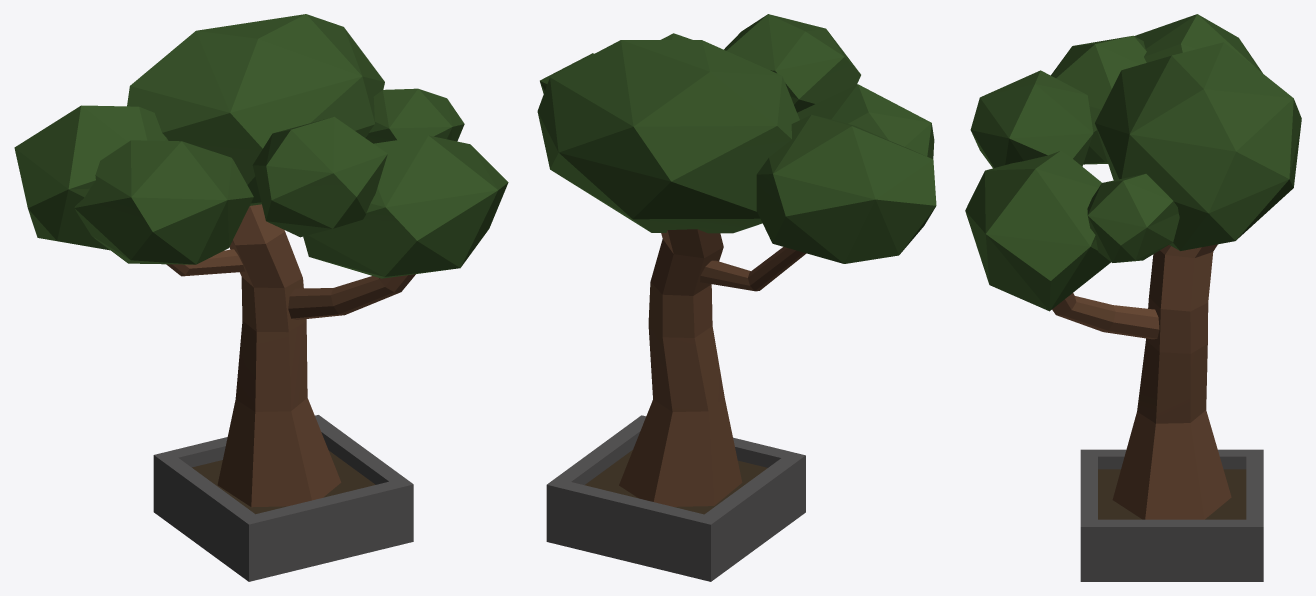
File: Tree_3.fbx
3 renders of one model, left to right at view 1: azimuth 30°, elevation 25°; view 2: azimuth 150°, elevation 25°; view 3: azimuth 270°, elevation 25°, orthographic. The views are drawn at different scales.
Visible parts, largest first — view 1: Tree_3; view 2: Tree_3; view 3: Tree_3.
Part boxes in pixels (x1,y1,x2,y2): Tree_3: [14, 14, 508, 581]; Tree_3: [537, 14, 936, 581]; Tree_3: [965, 14, 1301, 581].
Size of the model in its own units: 413 by 464 by 298.
